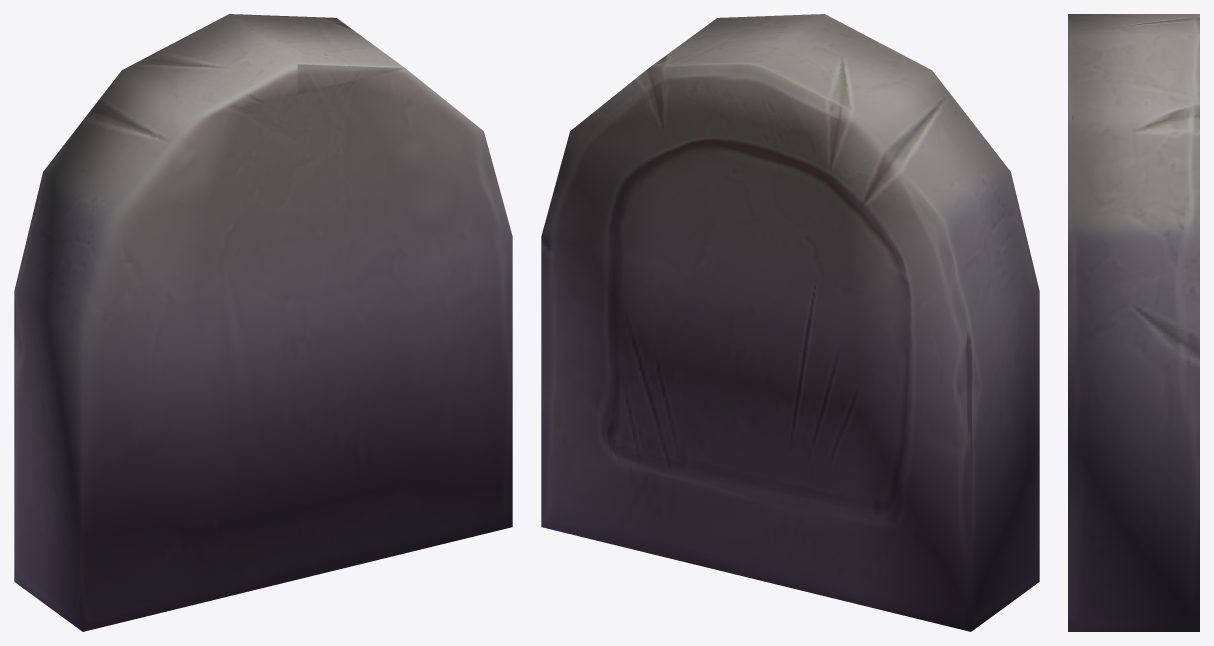
The model's file is GraveStone.glb.
The picture shows the model from 3 angles, left to right: view 1: azimuth 30°, elevation 25°; view 2: azimuth 150°, elevation 25°; view 3: azimuth 270°, elevation 25°; orthographic projection. The views are drawn at different scales.
Parts seen in each view (by area): view 1: Grave_Low; view 2: Grave_Low; view 3: Grave_Low.
Boxes of the visible parts, bbox=[...] form: Grave_Low: bbox=[14, 14, 512, 631]; Grave_Low: bbox=[541, 14, 1039, 631]; Grave_Low: bbox=[1068, 14, 1199, 631].
Bounding box in the file's own units: 1 × 1.15 × 0.277.
Materials: 1 (1 with a texture image).
